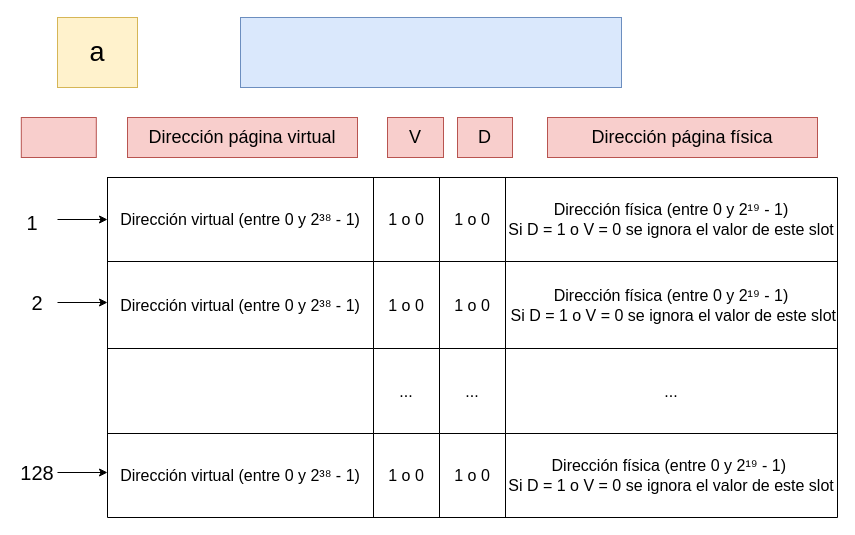
The diagram is 855 pixels wide and 535 high, and some of its shapes have lost their labels. The shapes that lost their labels are listed below. From the top down, each one's centre as x and y in pixels, then its label:
At [431,52]: "TBL".
At [58,137]: "Slot".
